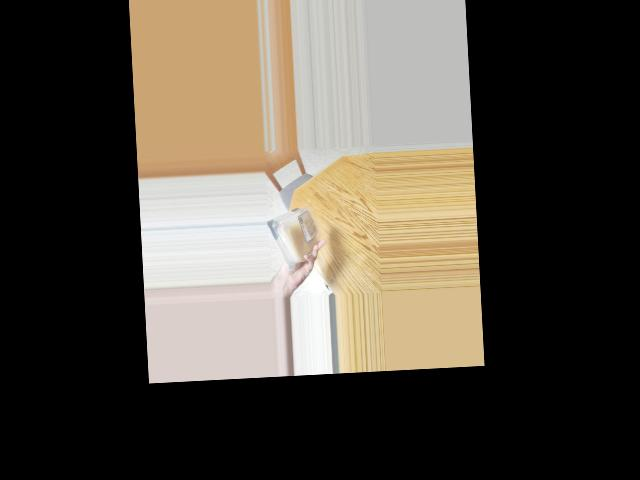cheese: (270, 206, 320, 264)
